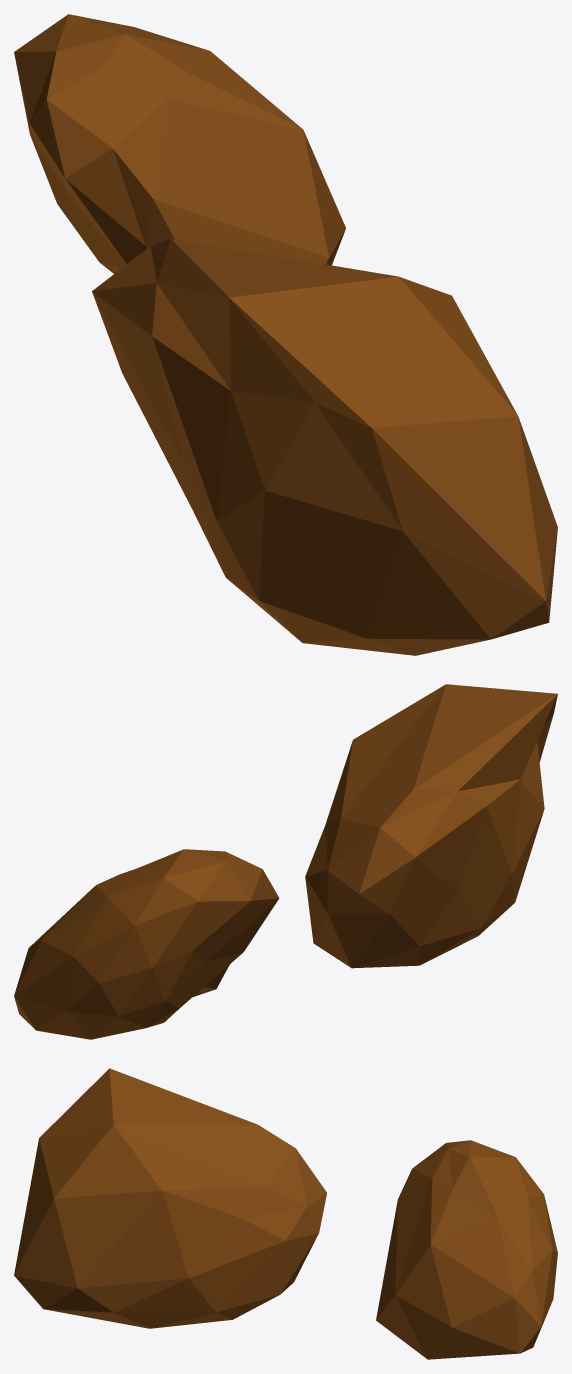
File: Rock.blend.glb
The picture shows the model from 3 angles, top to bottom: view 1: azimuth 30°, elevation 25°; view 2: azimuth 150°, elevation 25°; view 3: azimuth 270°, elevation 25°; orthographic projection. The views are drawn at different scales.
Parts seen in each view (by area): view 1: Icosphere; view 2: Icosphere; view 3: Icosphere.
Boxes of the visible parts, x1,y1,x2,y2 form: Icosphere: (14, 14, 557, 655); Icosphere: (14, 684, 557, 1039); Icosphere: (14, 1068, 557, 1359).
Size of what is drawn, in the model's own units: 2.62 by 2.25 by 5.21.
